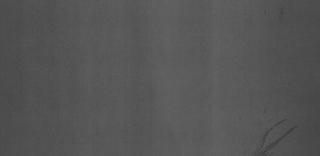water spot: (246, 112, 304, 156)
